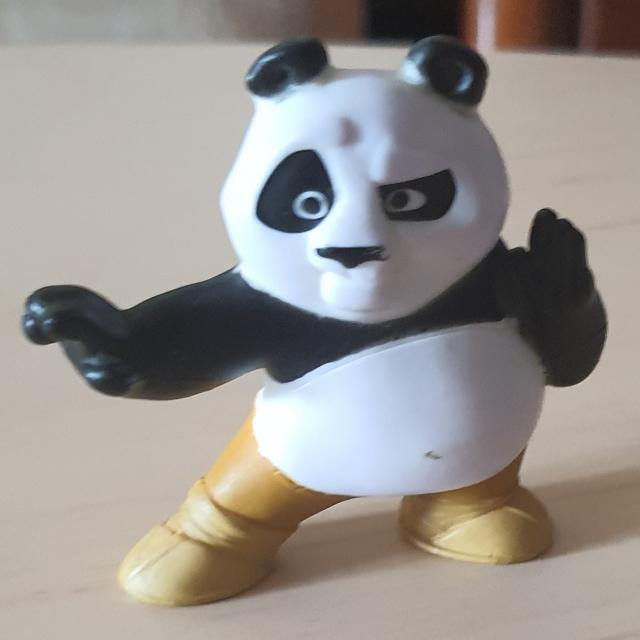Panda: (22, 36, 607, 604)
